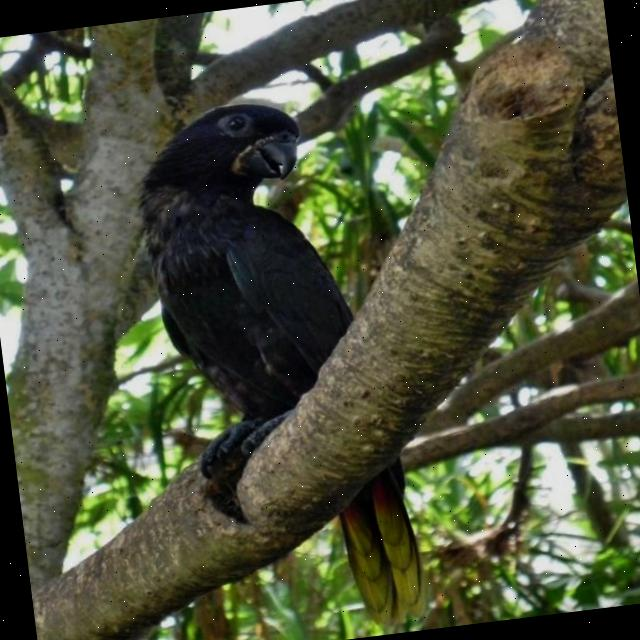Nuri Hitam: (99, 68, 462, 640)
